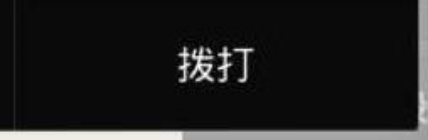Button: (1, 1, 427, 139)
